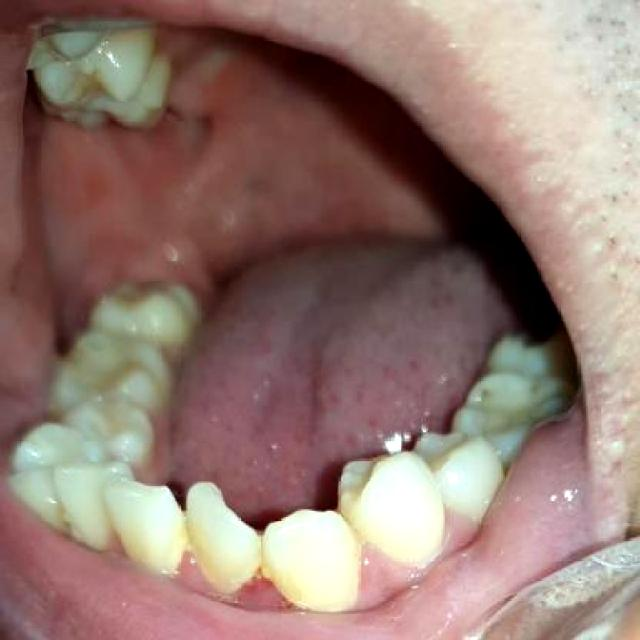Plaque: (217, 559, 308, 627)
